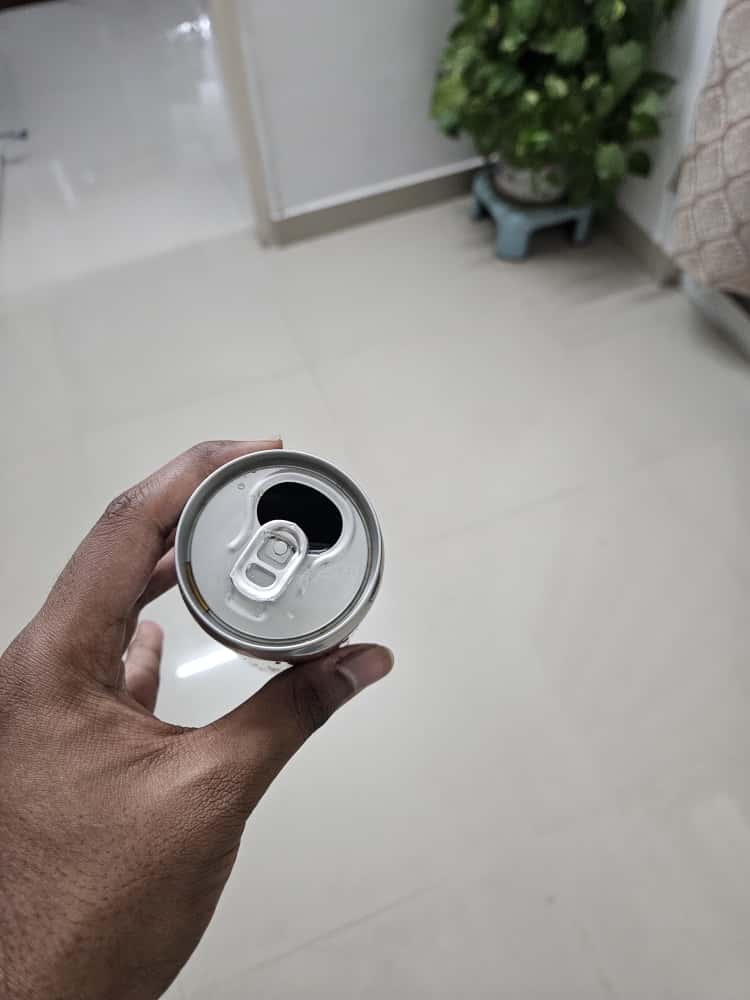dry: (124, 456, 457, 660)
